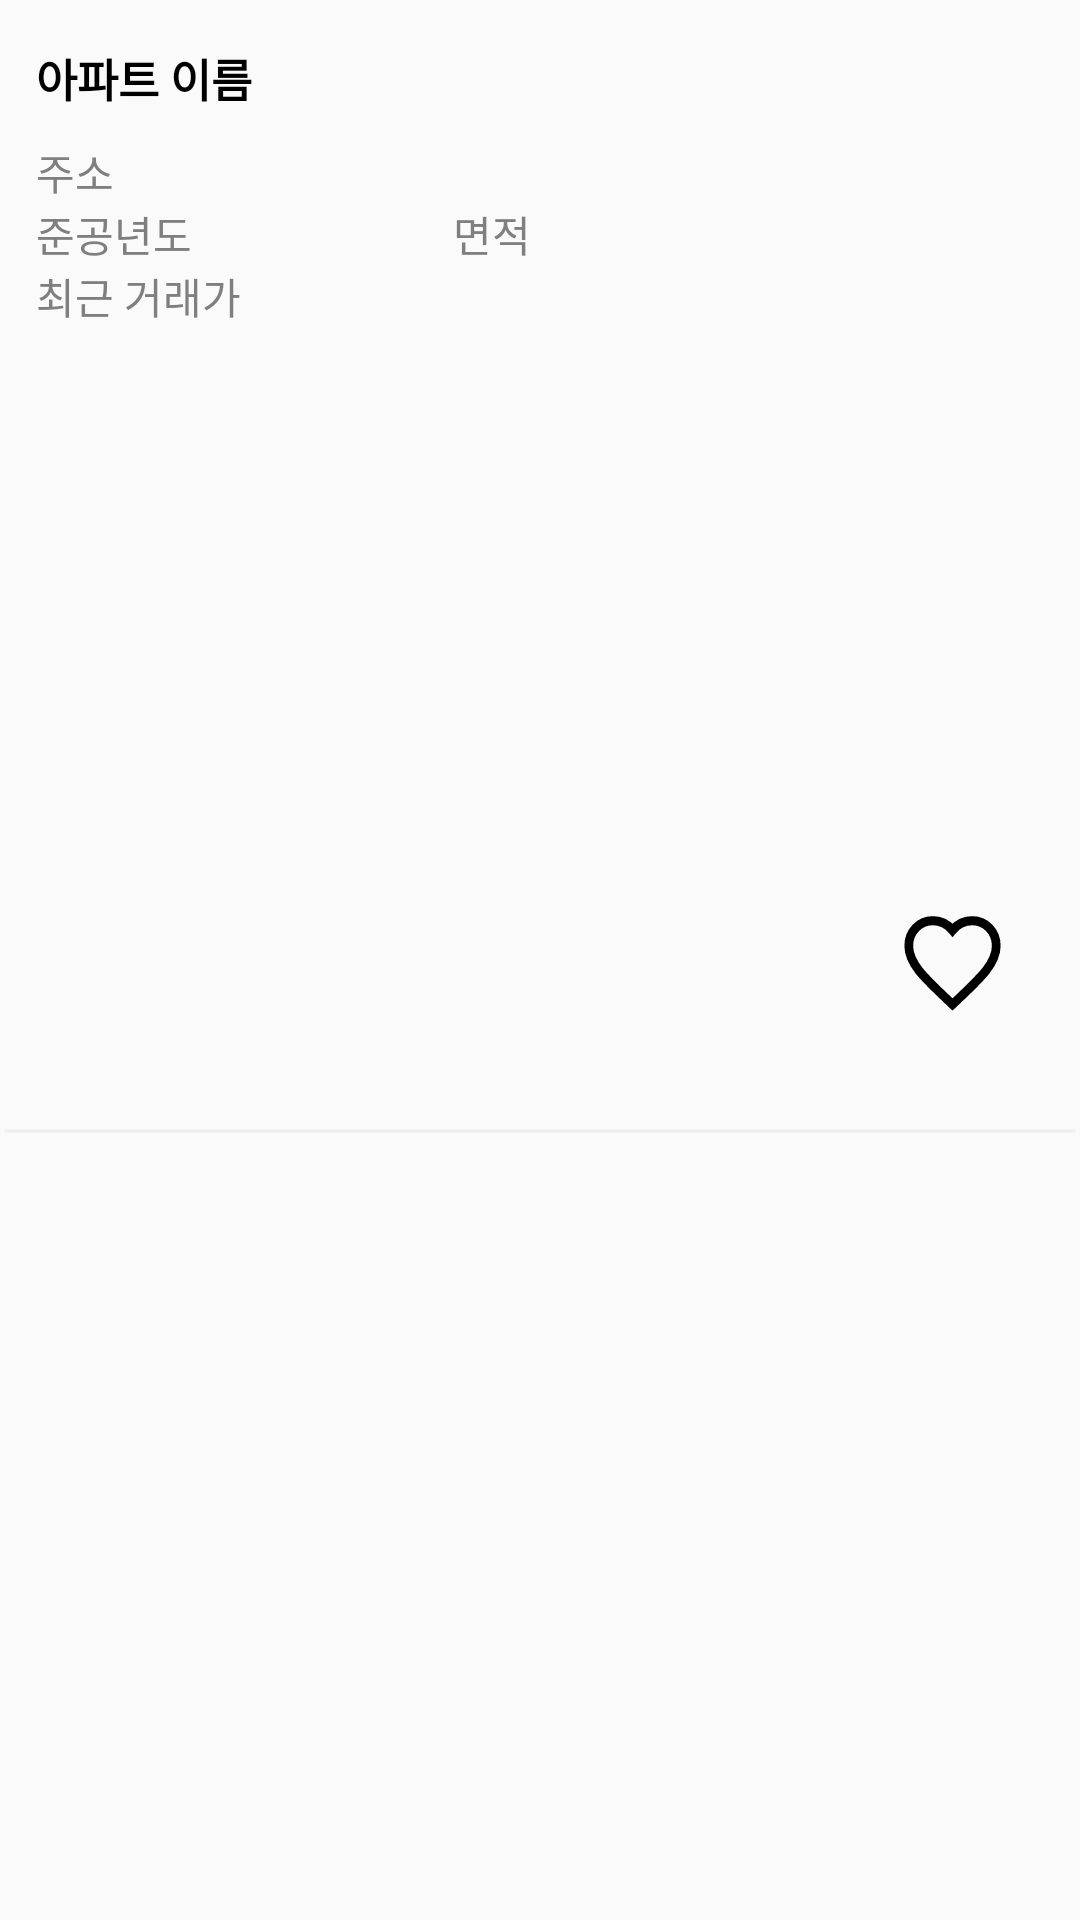

Where icons sit on this 1080 x 1920 app screen, as [left=x1, top=y1, right=x2, bottom=y2]:
favorite heart: [left=904, top=916, right=1001, bottom=1011]
